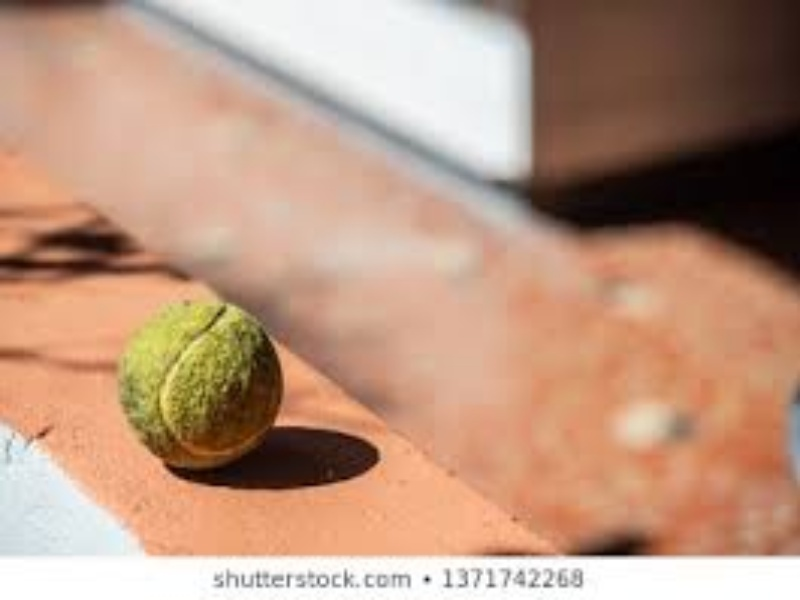tennis ball: (113, 292, 297, 477)
